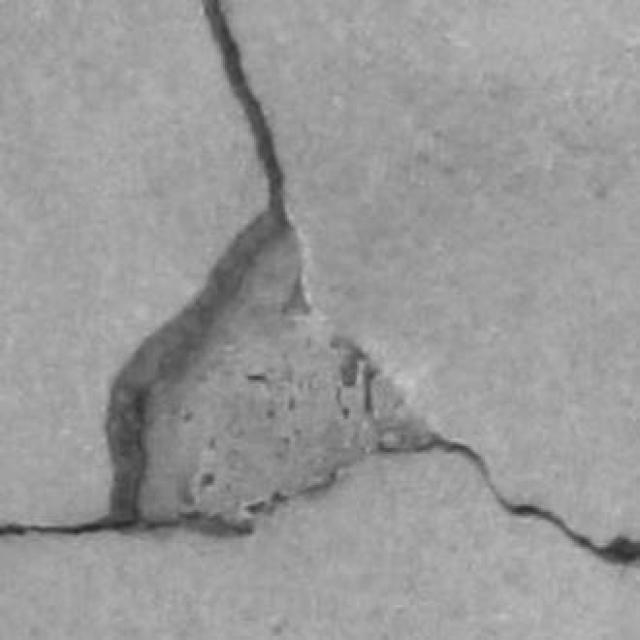crack: (0, 0, 294, 537), (379, 435, 639, 564), (204, 0, 285, 215)
